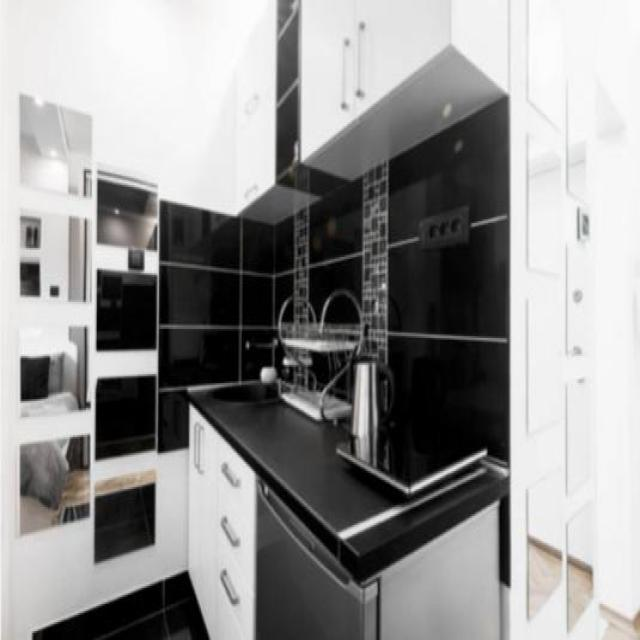dishwasher: (255, 475, 377, 638)
